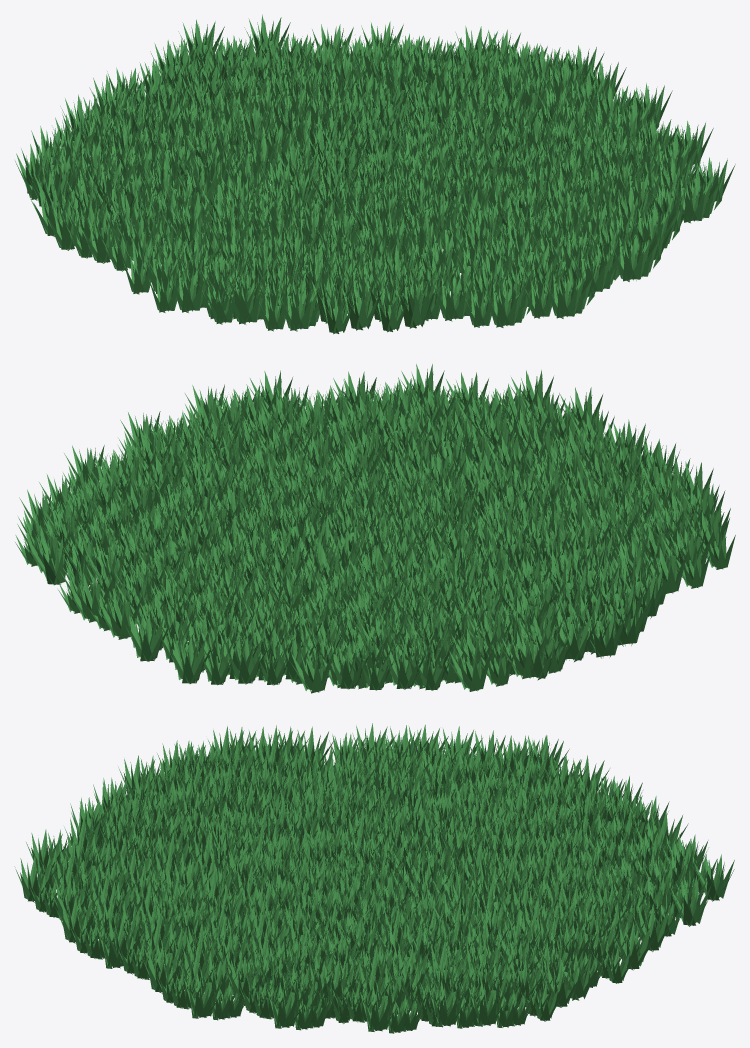
3 views of the same model, one above another, from view 1: azimuth 30°, elevation 25°; view 2: azimuth 150°, elevation 25°; view 3: azimuth 270°, elevation 25° (orthographic). The views are drawn at different scales.
Parts seen in each view (by area): view 1: Plane.027, Plane.012, Plane.071, Plane.074, Plane.044, Plane.069, Plane.070, Plane.029, Plane.067, Plane.022, Plane.043, Plane.025 (+62 smaller); view 2: Plane.057, Plane.064, Plane.072, Plane.063, Plane.073, Plane.034, Plane.035, Plane.067, Plane.058, Plane.012, Plane.025, Plane.007 (+62 smaller); view 3: Plane.072, Plane.022, Plane.056, Plane.071, Plane.073, Plane.019, Plane.070, Plane.035, Plane.029, Plane.057, Plane.069, Plane.034 (+62 smaller).
Part boxes in pixels (x1,y1,x2,y2): Plane.027: (412, 246, 546, 327); Plane.012: (44, 186, 202, 271); Plane.071: (599, 142, 735, 223); Plane.074: (301, 259, 436, 334); Plane.044: (206, 249, 341, 331); Plane.069: (472, 237, 607, 318); Plane.070: (538, 201, 674, 281); Plane.029: (557, 172, 693, 249); Plane.067: (30, 173, 189, 247); Plane.022: (536, 68, 672, 139); Plane.043: (148, 238, 284, 319); Plane.025: (123, 220, 258, 299); Plane.057: (167, 599, 302, 685); Plane.064: (439, 592, 567, 691); Plane.072: (15, 475, 144, 572); Plane.063: (327, 604, 461, 690); Plane.073: (58, 523, 187, 622); Plane.034: (88, 540, 216, 639); Plane.035: (125, 577, 260, 662); Plane.067: (508, 556, 650, 658); Plane.058: (283, 594, 408, 693); Plane.012: (531, 544, 671, 646); Plane.025: (585, 507, 710, 593); Plane.007: (215, 595, 350, 680); Plane.072: (426, 939, 583, 1027); Plane.022: (318, 944, 475, 1033); Plane.056: (225, 941, 381, 1030); Plane.071: (142, 931, 299, 1020); Plane.073: (498, 902, 655, 987); Plane.019: (386, 939, 543, 1028); Plane.070: (56, 882, 212, 968); Plane.035: (561, 855, 711, 937); Plane.029: (103, 902, 260, 989); Plane.057: (585, 830, 734, 905); Plane.069: (14, 840, 166, 918); Plane.034: (517, 883, 675, 970).
Size of the model in its own units: 1.67 by 0.1376 by 1.81.
